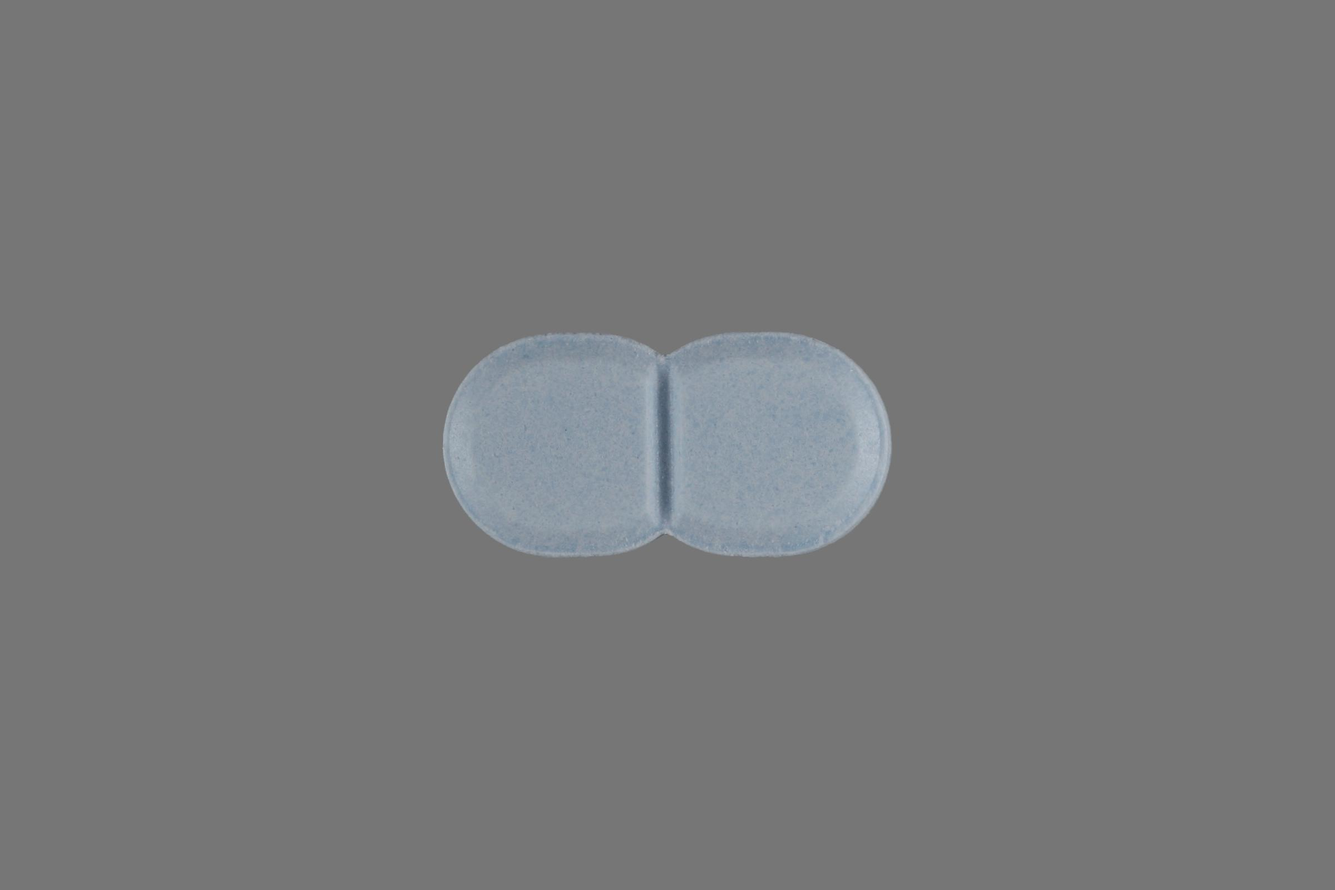Pill: (417, 313, 904, 579)
